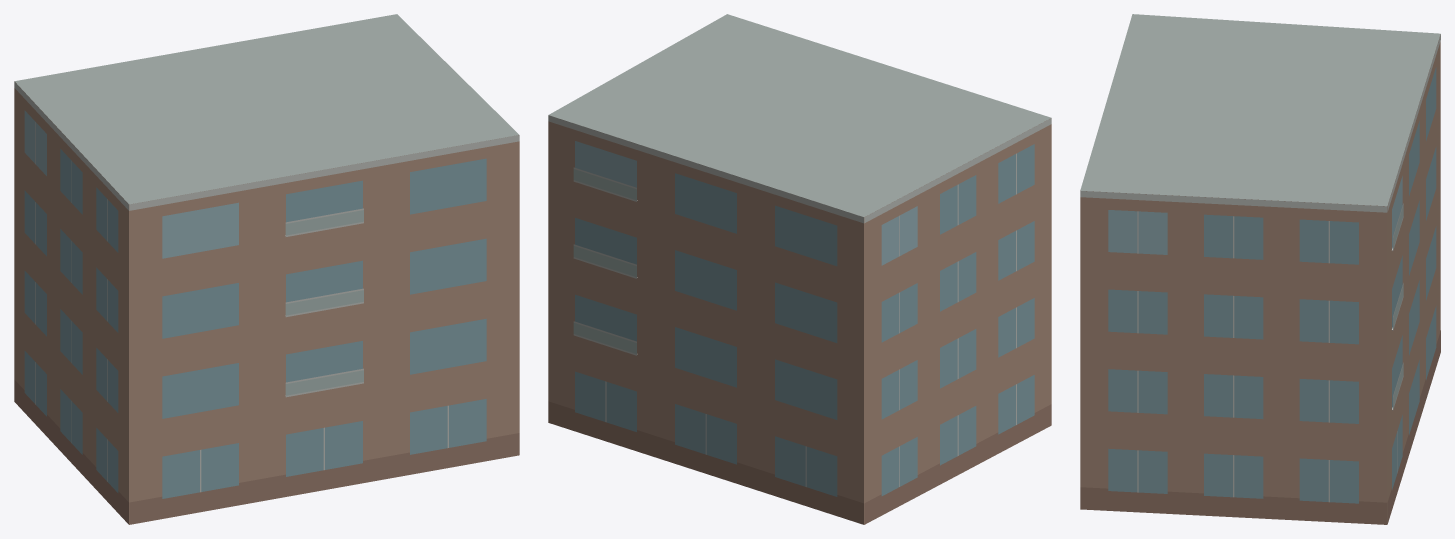
Rendered from survey-upis-32800118.glb.
The picture shows the model from 3 angles, left to right: view 1: azimuth 30°, elevation 25°; view 2: azimuth 150°, elevation 25°; view 3: azimuth 270°, elevation 25°; orthographic projection. The views are drawn at different scales.
Parts seen in each view (by area): view 1: survey-upis-32800118.tmp; view 2: survey-upis-32800118.tmp; view 3: survey-upis-32800118.tmp.
Part boxes in pixels (x1,y1,x2,y2): survey-upis-32800118.tmp: [14, 14, 519, 524]; survey-upis-32800118.tmp: [548, 14, 1051, 524]; survey-upis-32800118.tmp: [1080, 14, 1440, 524].
Size of the model in its own units: 15.67 by 12.1 by 12.42.
